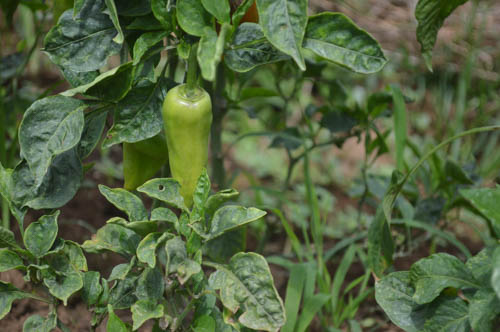ChiliPepper: (163, 86, 212, 204), (117, 138, 167, 193)
